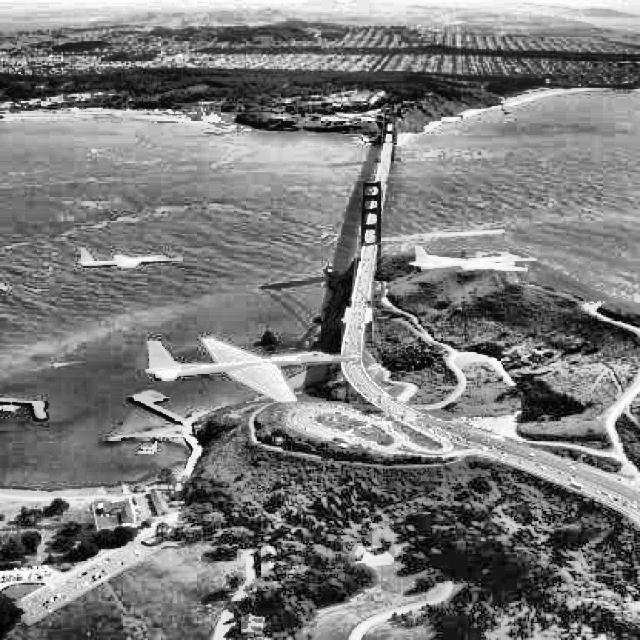U2: (146, 338, 360, 402), (409, 245, 536, 273), (78, 248, 182, 269)
